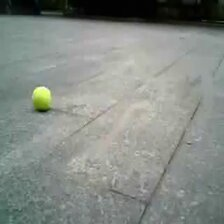tennis: (32, 86, 49, 108)
